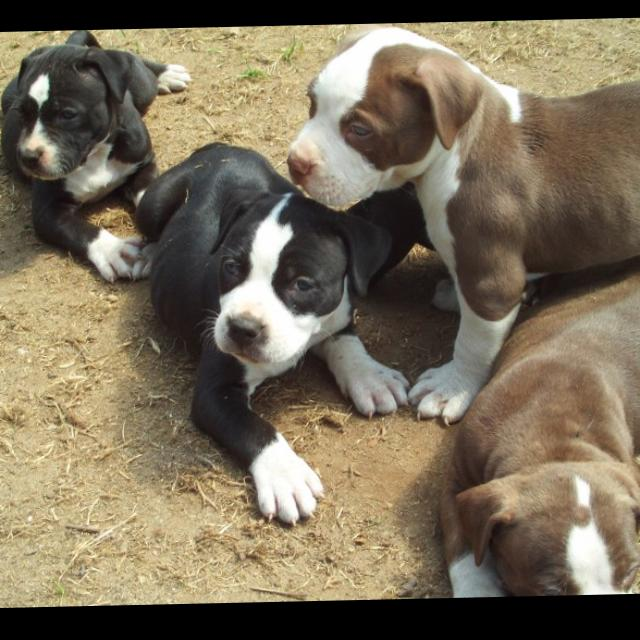am_pit_bull_terrier: (287, 23, 640, 433), (132, 139, 412, 532), (439, 259, 640, 602), (1, 30, 191, 287)
